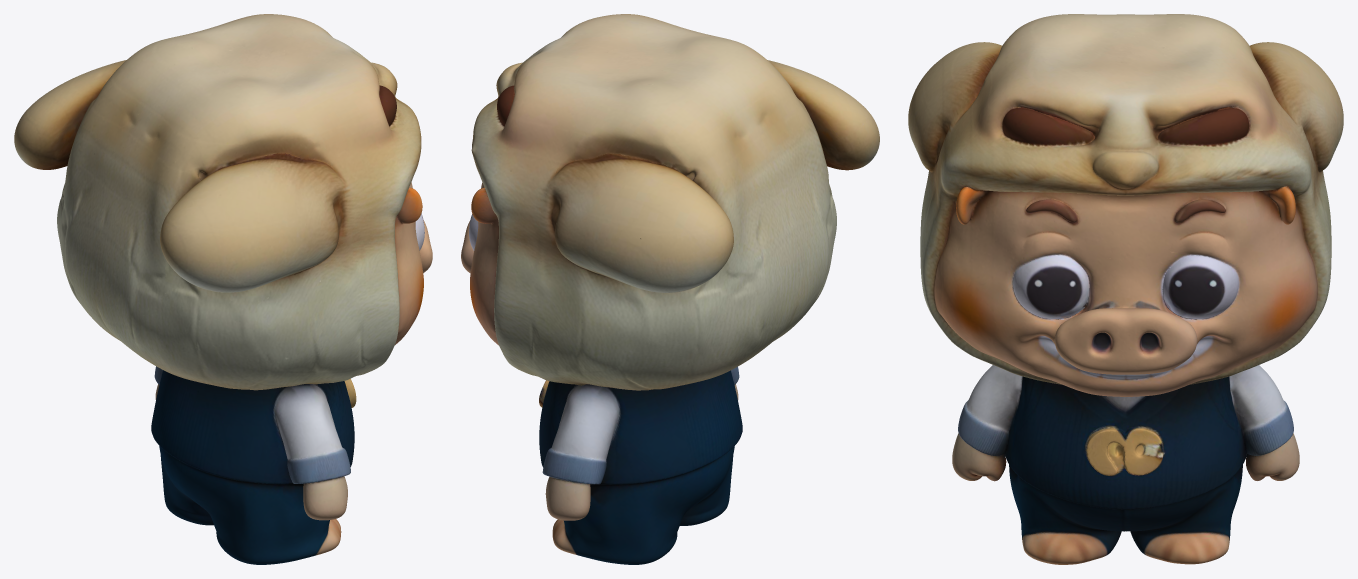
Rendered from tripo_texture_07a8462b-4614-4260-a1f3-e143a1f52fc8 (2).glb.
The picture shows the model from 3 angles, left to right: view 1: azimuth 30°, elevation 25°; view 2: azimuth 150°, elevation 25°; view 3: azimuth 270°, elevation 25°; orthographic projection. The views are drawn at different scales.
Parts seen in each view (by area): view 1: tripo_node_e0882191-4272-4dac-9d4b-a69d8aacfbe8; view 2: tripo_node_e0882191-4272-4dac-9d4b-a69d8aacfbe8; view 3: tripo_node_e0882191-4272-4dac-9d4b-a69d8aacfbe8.
Part boxes in pixels (x1,y1,x2,y2): tripo_node_e0882191-4272-4dac-9d4b-a69d8aacfbe8: [14, 14, 432, 564]; tripo_node_e0882191-4272-4dac-9d4b-a69d8aacfbe8: [461, 14, 879, 564]; tripo_node_e0882191-4272-4dac-9d4b-a69d8aacfbe8: [908, 14, 1343, 564].
Bounding box in the file's own units: 0.7063 × 1 × 0.7965.
Materials: 1 (1 with a texture image).
